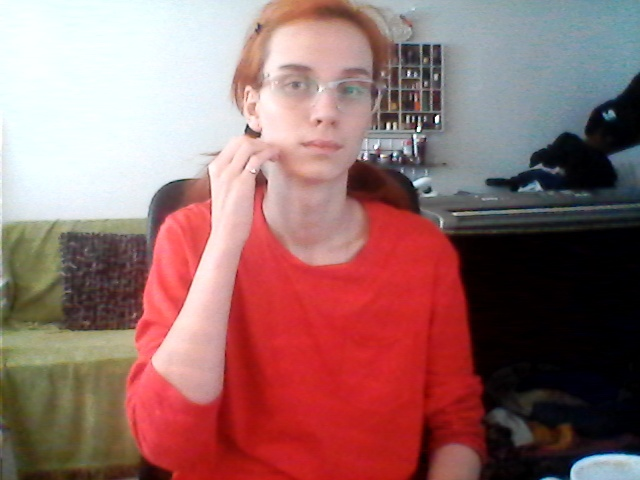dievca: (207, 128, 312, 233)
